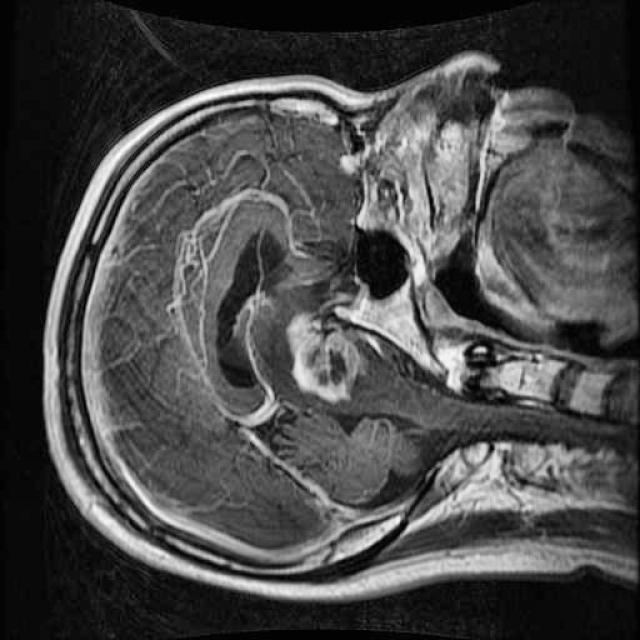Non-Tumor: (281, 304, 370, 414)
